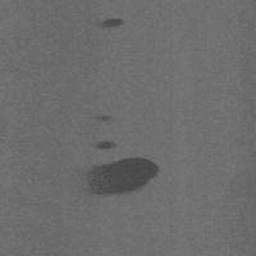Oil spot: (76, 156, 160, 197), (96, 17, 123, 31), (92, 138, 118, 151), (92, 114, 113, 123)
